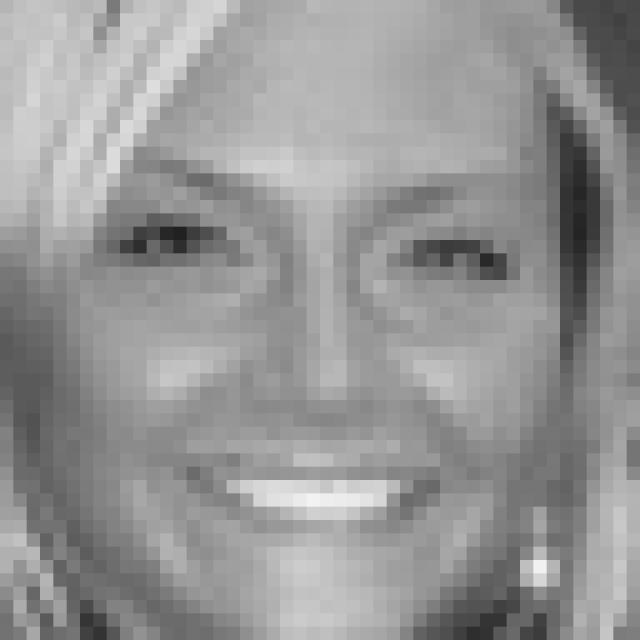happy: (107, 149, 528, 582)
